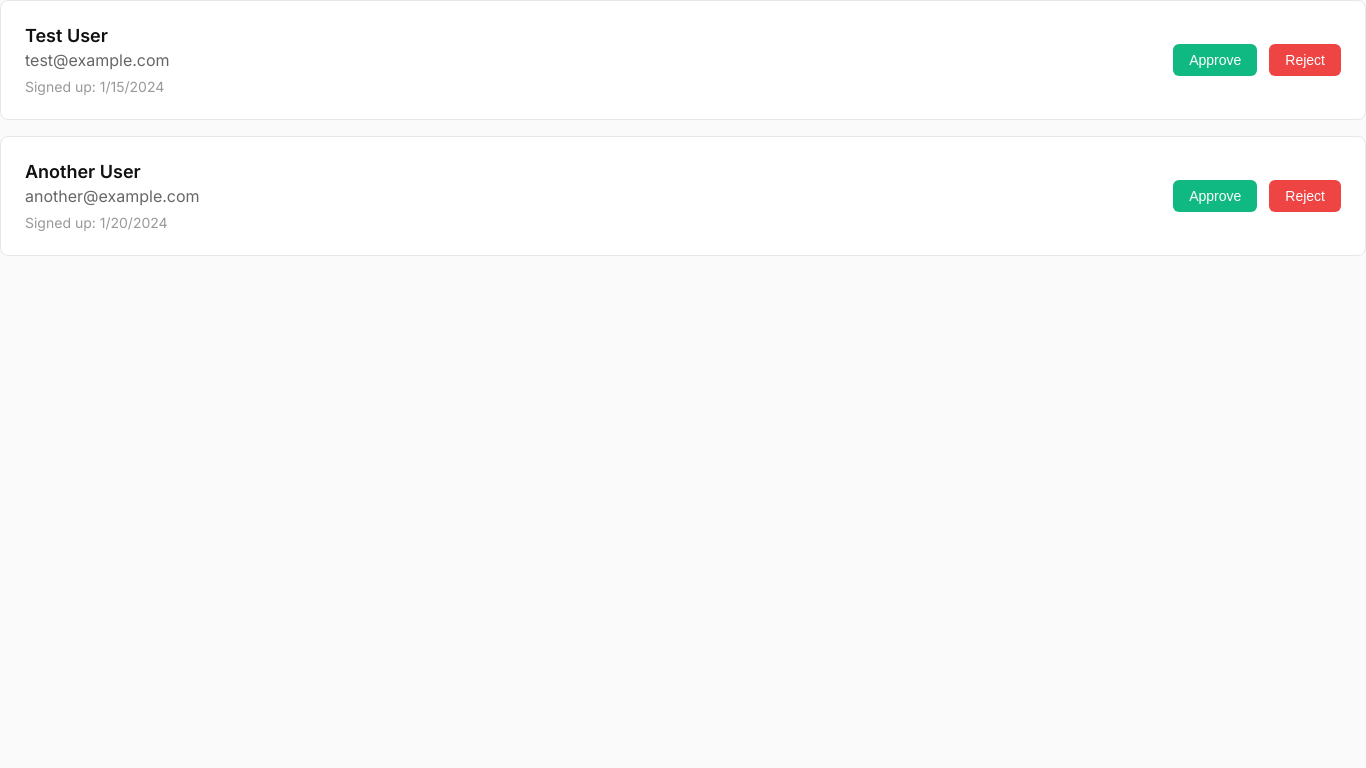
Scenario: UserList › closes modal when cancel is clicked
Open modal
Click the button "Approve" in the row of "test@example.com" at (1215, 60), box [1173,44,1257,76]
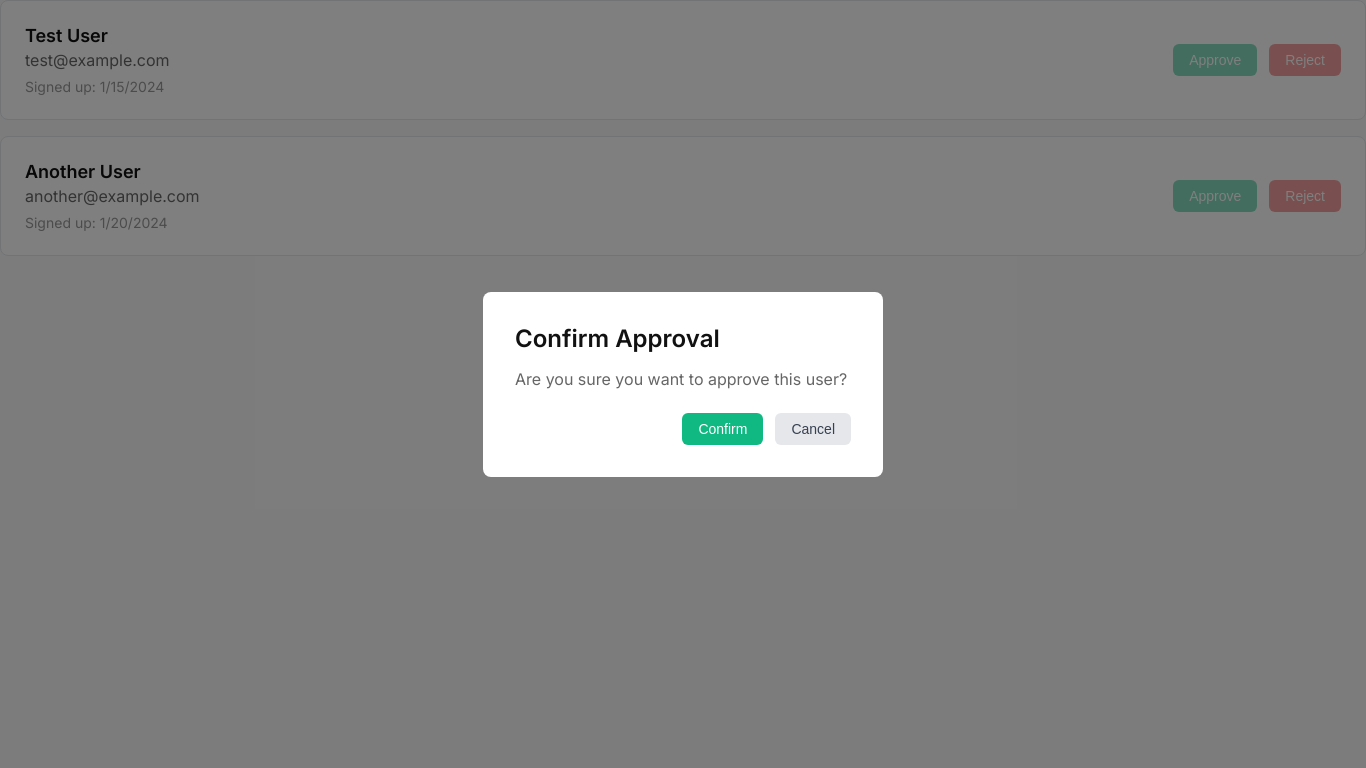
Now the heading "Confirm Approval" is shown, box [515,324,720,352]
Click cancel
Click the button "Cancel" at (813, 428), box [775,412,851,444]
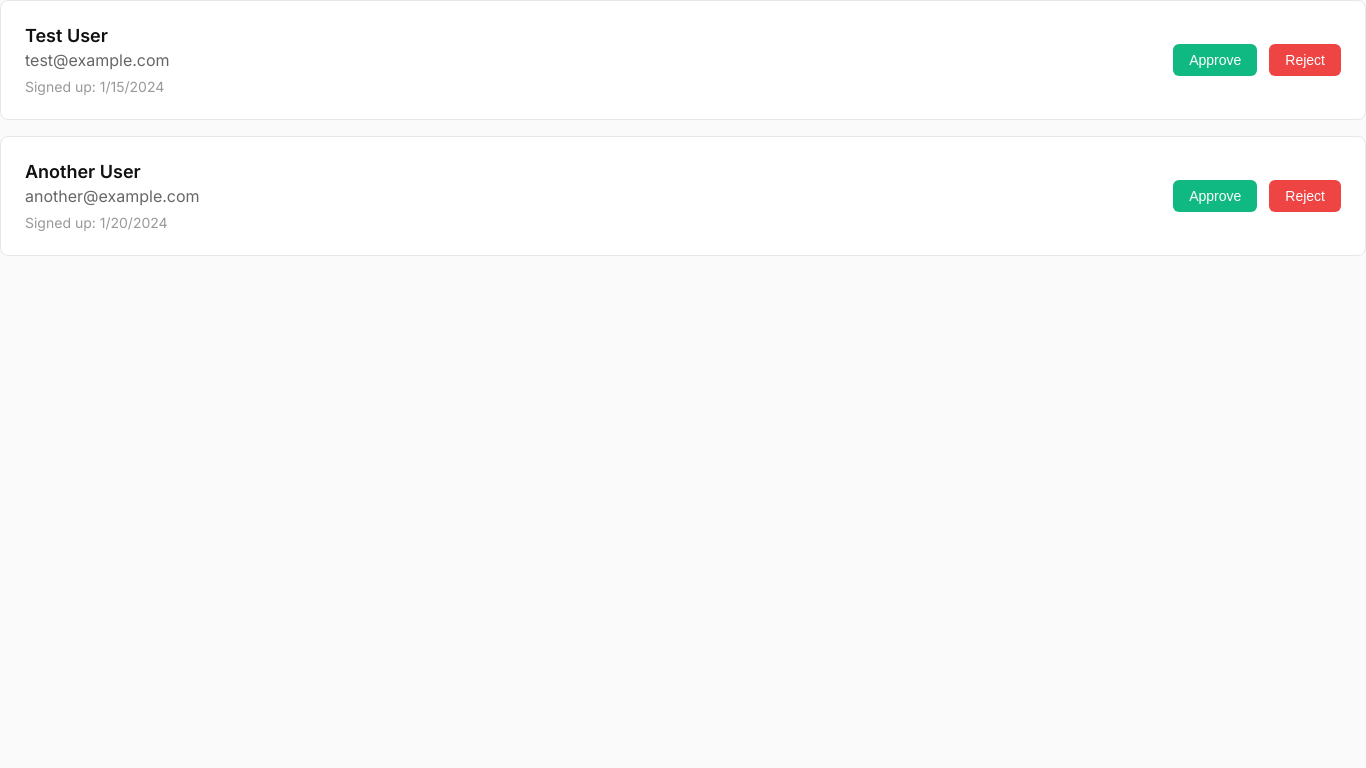
Now the heading "Confirm Approval" is gone
